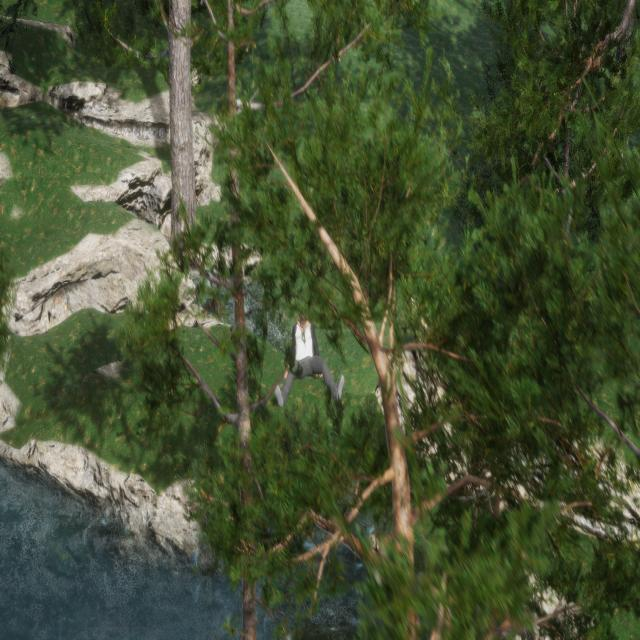Human: (264, 296, 348, 419)
